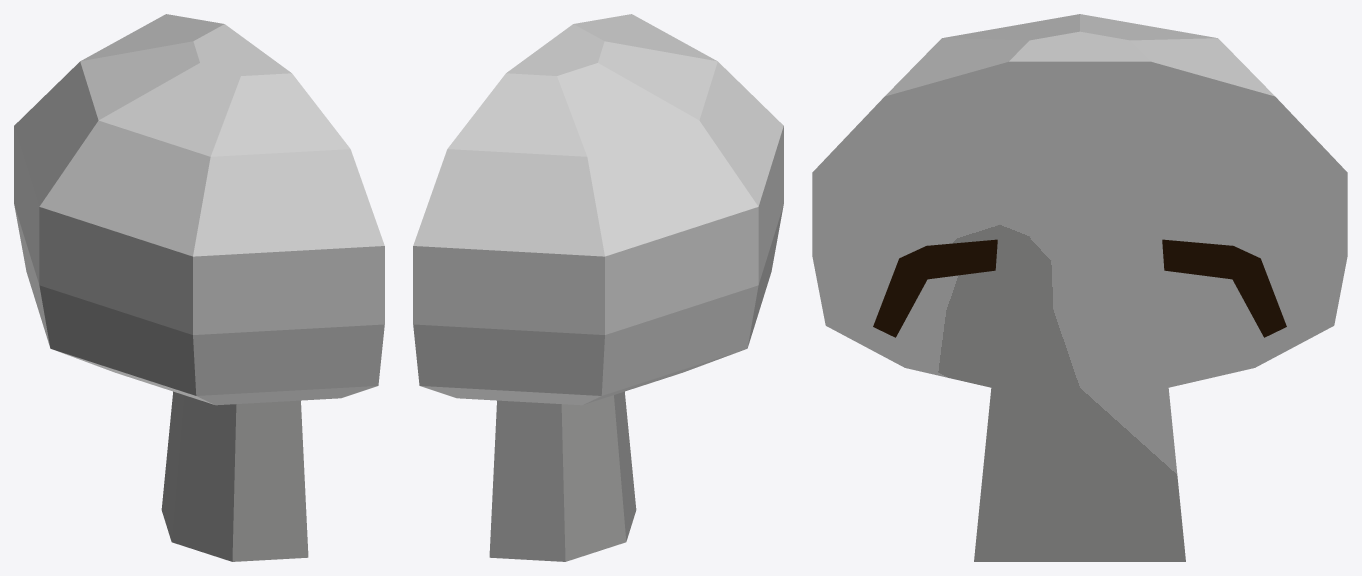
The model's file is mushroom05.obj.
The picture shows the model from 3 angles, left to right: view 1: azimuth 30°, elevation 25°; view 2: azimuth 150°, elevation 25°; view 3: azimuth 270°, elevation 25°; orthographic projection. The views are drawn at different scales.
Parts seen in each view (by area): view 1: Cylinder; view 2: Cylinder; view 3: Cylinder.
Boxes of the visible parts, bbox=[...] form: Cylinder: bbox=[14, 14, 384, 561]; Cylinder: bbox=[413, 14, 783, 561]; Cylinder: bbox=[812, 14, 1347, 561].
Size of the model in its own units: 0.0173 by 0.0356 by 0.0346.
Materials: 1 (1 with a texture image).
